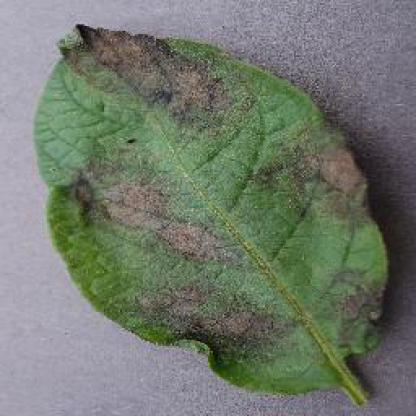bad leaf: (28, 14, 403, 414)
